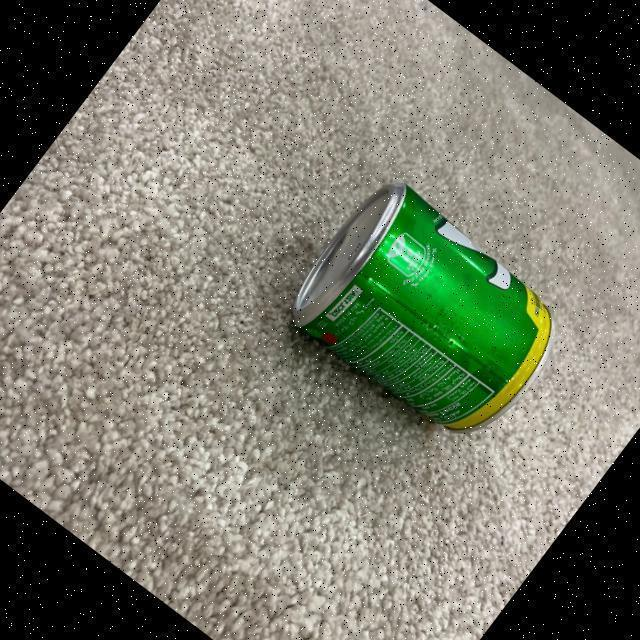Kaleng: (290, 181, 552, 432)
